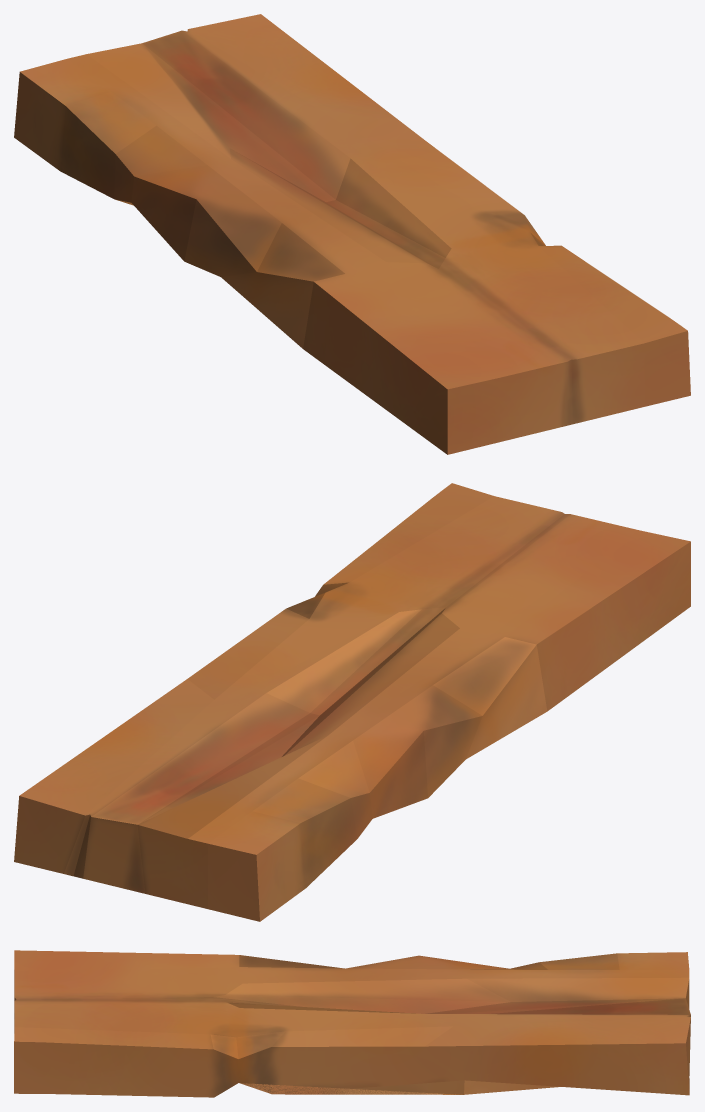
Rendered from PlanchaMadera3.fbx.
3 views of the same model, one above another, from view 1: azimuth 30°, elevation 25°; view 2: azimuth 150°, elevation 25°; view 3: azimuth 270°, elevation 25° (orthographic). The views are drawn at different scales.
Parts seen in each view (by area): view 1: PlanchaMadera3; view 2: PlanchaMadera3; view 3: PlanchaMadera3.
Part boxes in pixels (x1,y1,x2,y2): PlanchaMadera3: (14,14,690,454); PlanchaMadera3: (14,483,690,921); PlanchaMadera3: (14,950,690,1097).
Bounding box in the file's own units: 0.4944 × 0.1337 × 1.5.
1 material, 1 textured.
